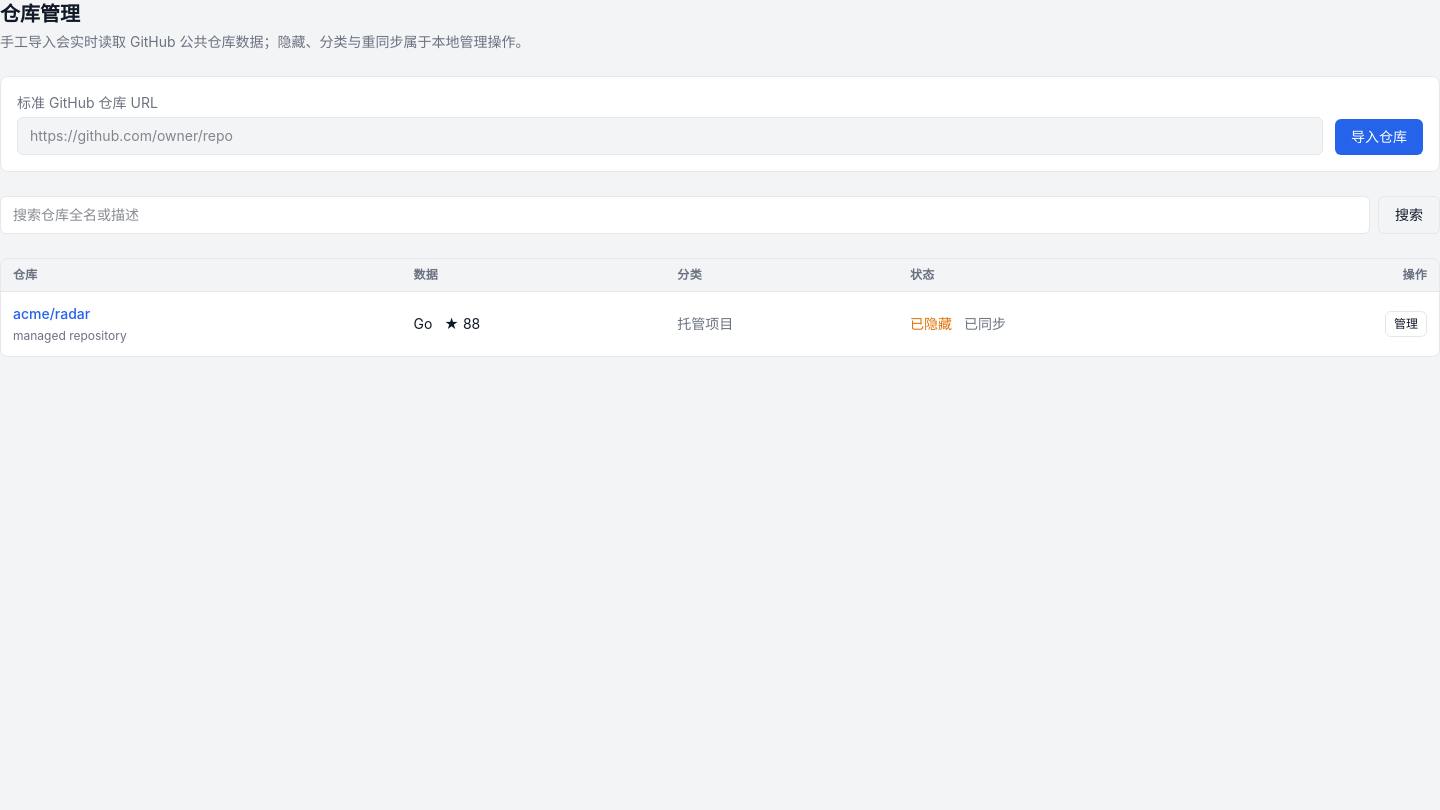
AdminRepositoriesPage › updates visibility, categories and queues a resync from the modal
Click the button with test id "manage-repo-9" at [1406, 324], box [1385, 311, 1427, 337]
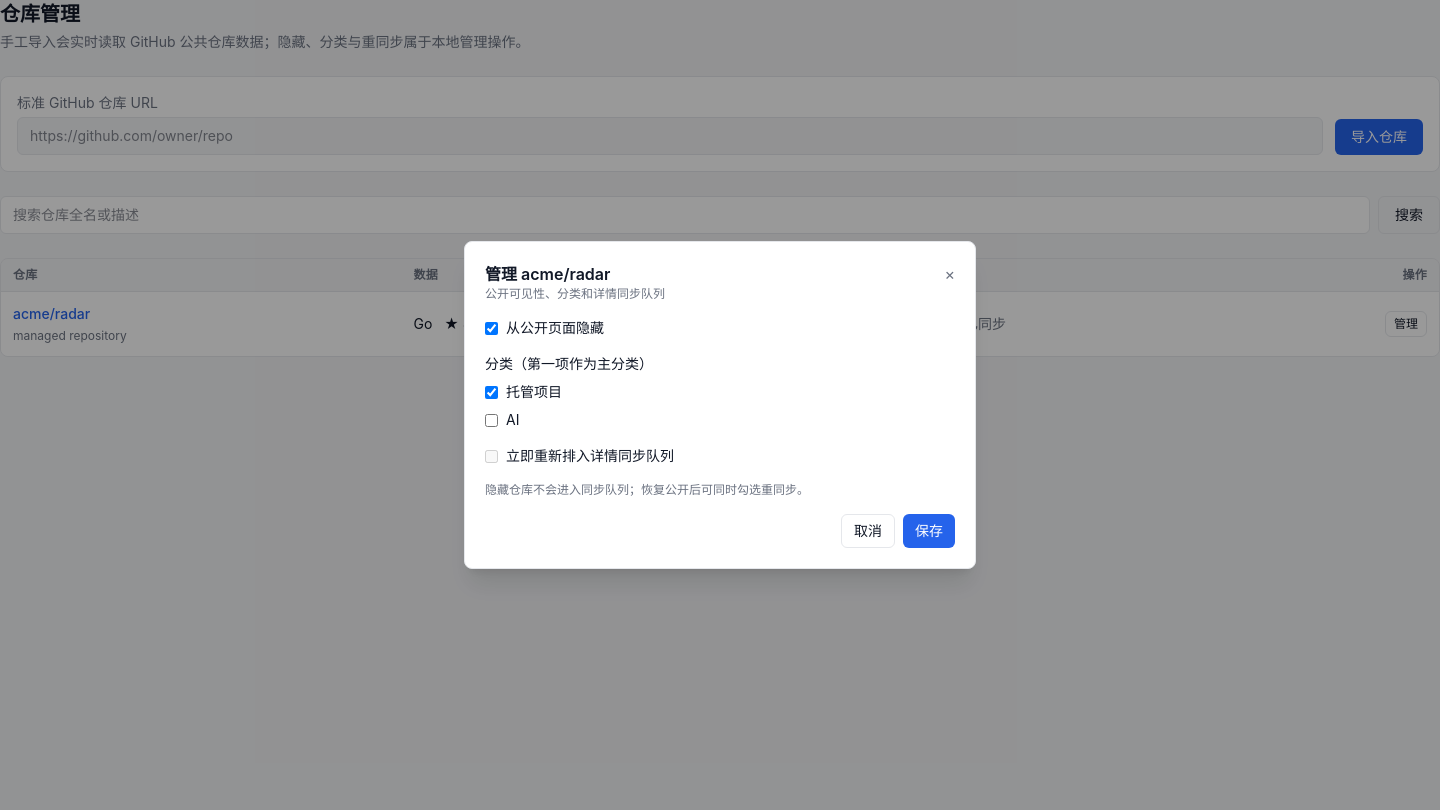
Expected: the checkbox with test id "repo-resync" is disabled, [485, 450, 498, 462]
Expected: the text "隐藏仓库不会进入同步队列" is shown, [485, 482, 809, 497]
Click the checkbox with test id "repo-hidden" at [492, 328], box [485, 322, 498, 334]
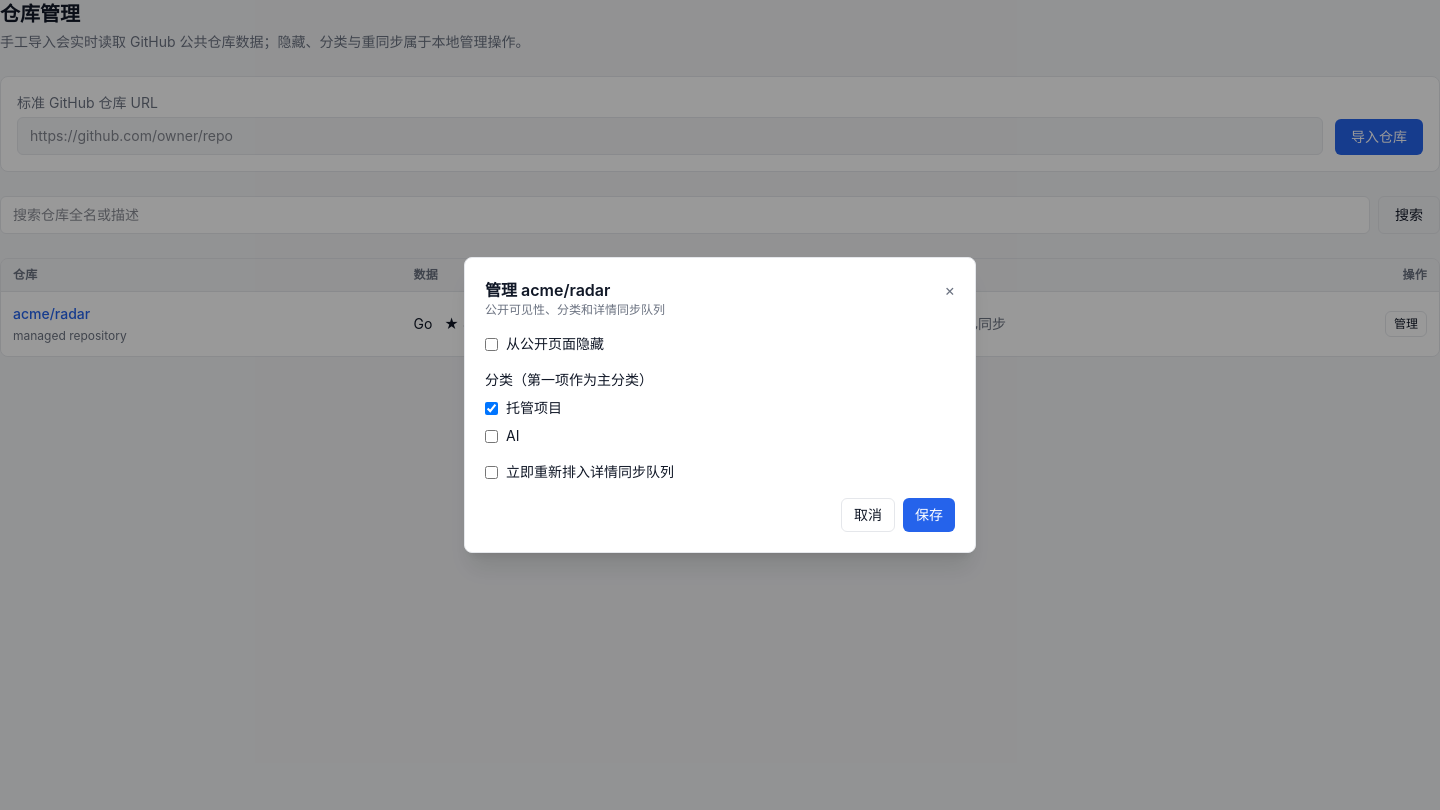
Click the checkbox with test id "repo-category-72" at [492, 436], box [485, 430, 498, 442]
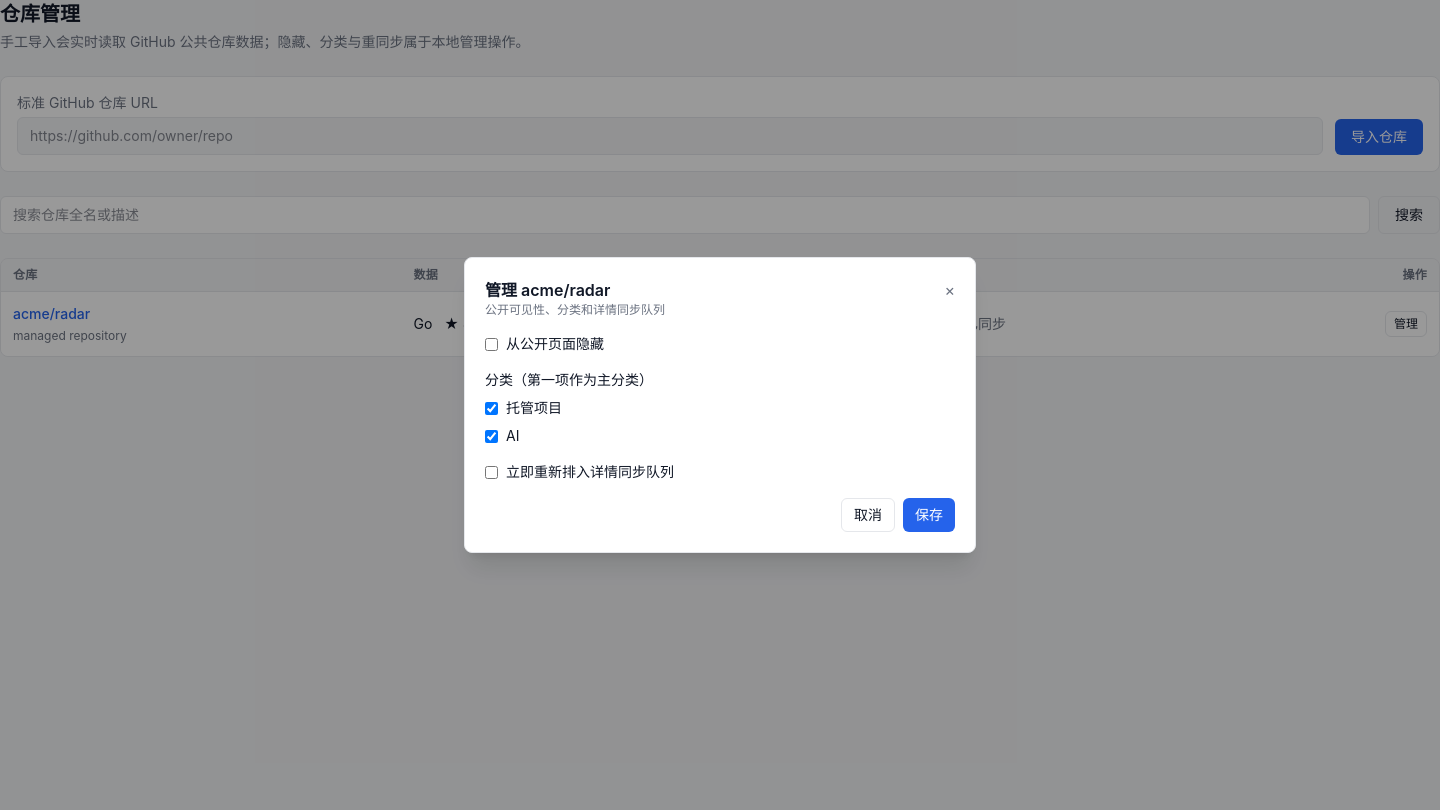
Click the checkbox with test id "repo-resync" at [492, 472], box [485, 466, 498, 478]
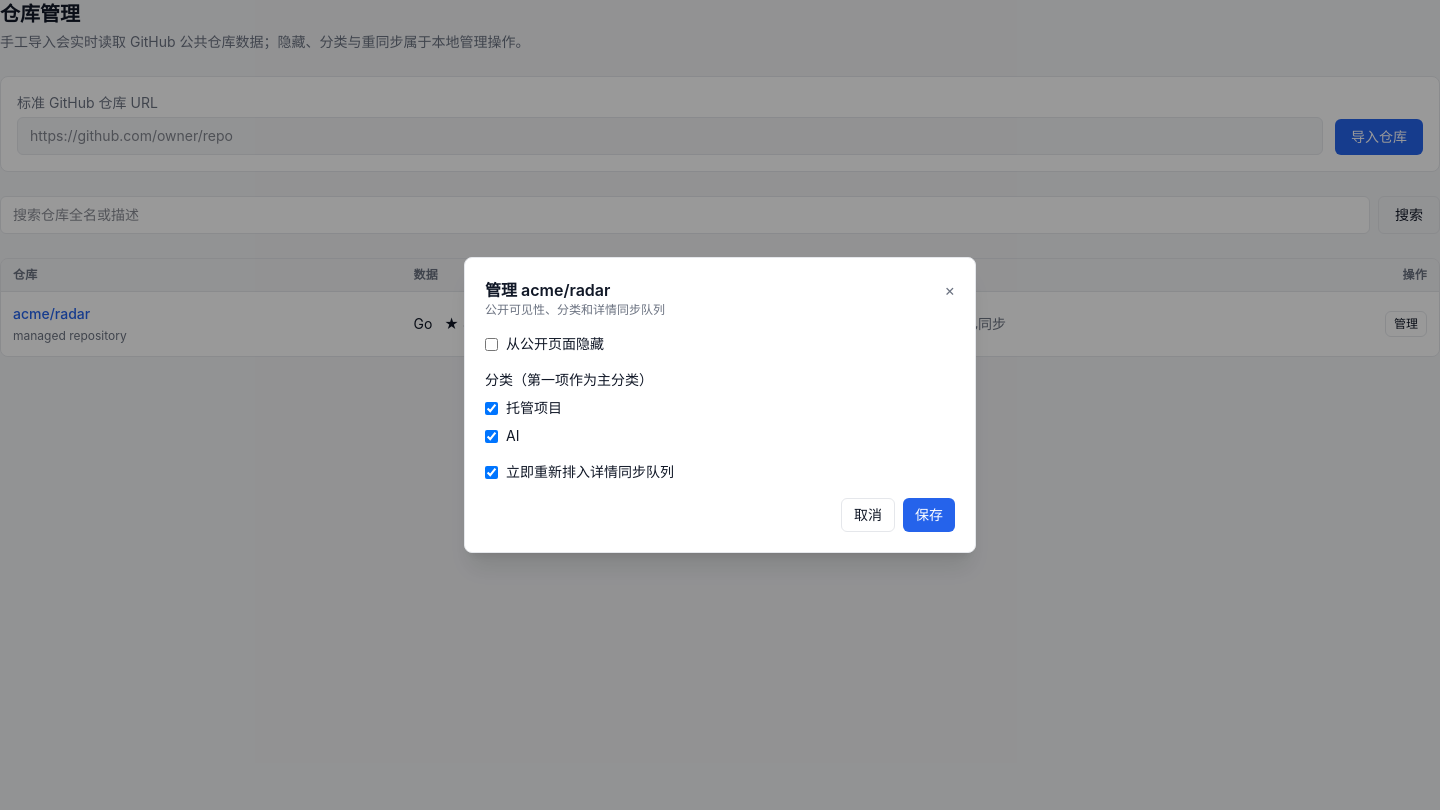
Submit the form with test id "repository-edit-form", box [464, 257, 976, 553]
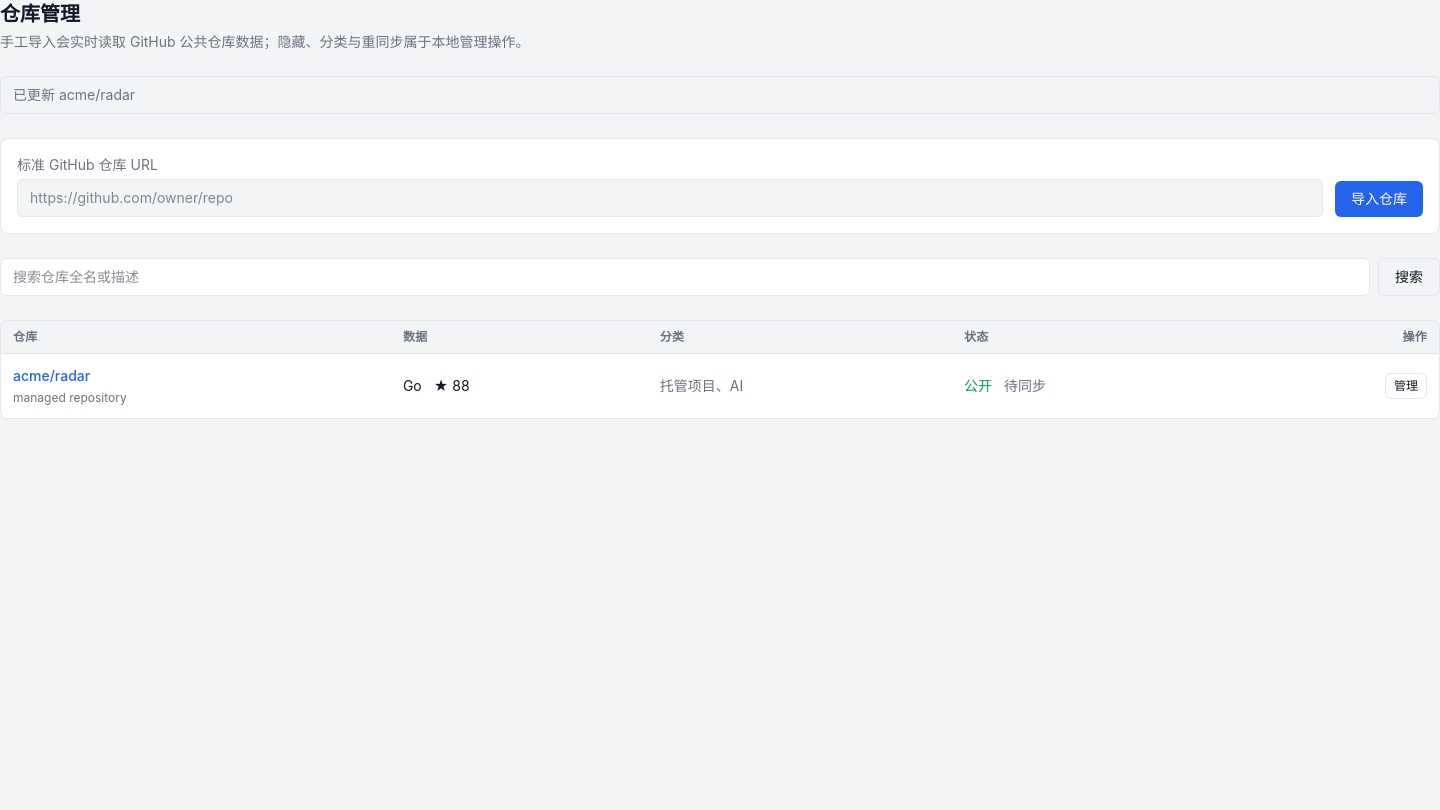
Expected: the text "已更新 acme/radar" is shown, [0, 76, 1439, 114]
Expected: the row with test id "repo-row-9" shows "公开", [964, 377, 992, 394]
Expected: the row with test id "repo-row-9" shows "待同步", [1004, 377, 1046, 394]
